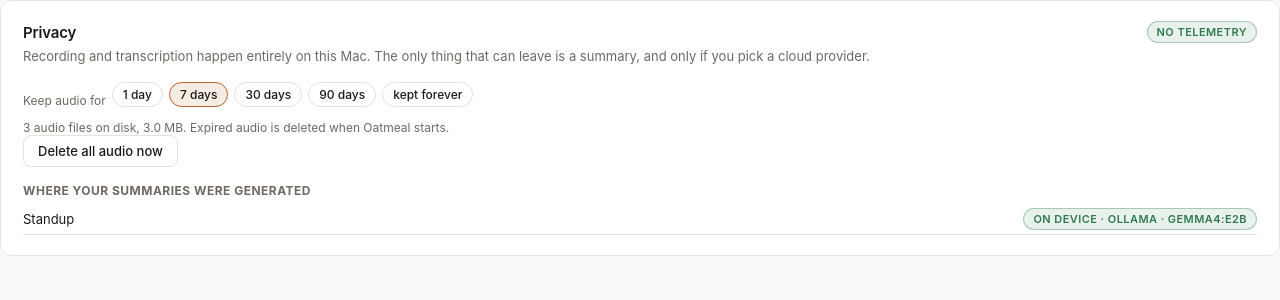
Test: PrivacyCard › reports what the purge freed
Click the button "Delete all audio now" at (100, 150), box [23, 134, 178, 166]
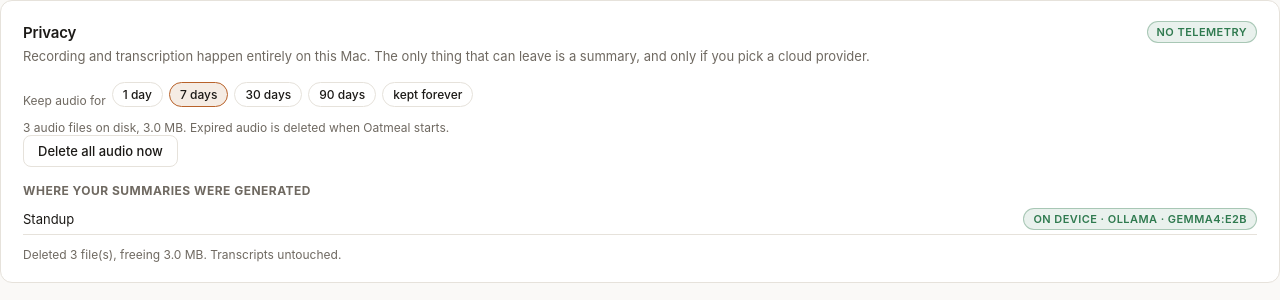
Expected: the text "Deleted 3 file(s), freeing 3.0 MB. Transcripts untouched." is shown, [23, 246, 341, 262]
